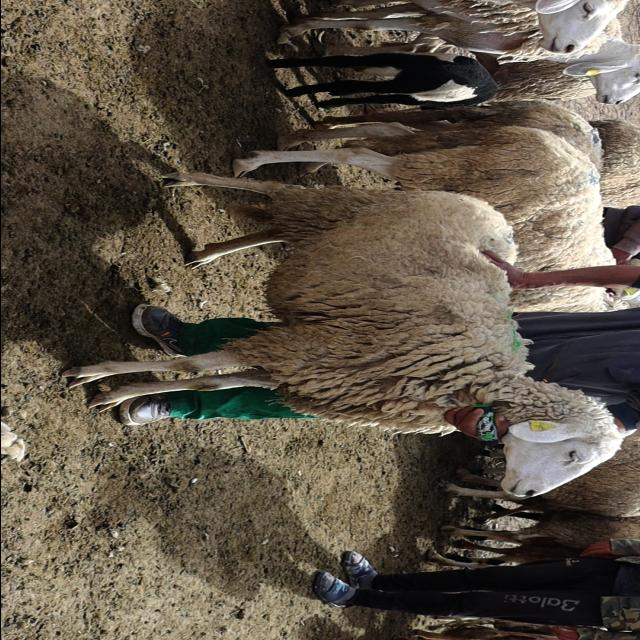Score_3: (62, 172, 622, 497)
